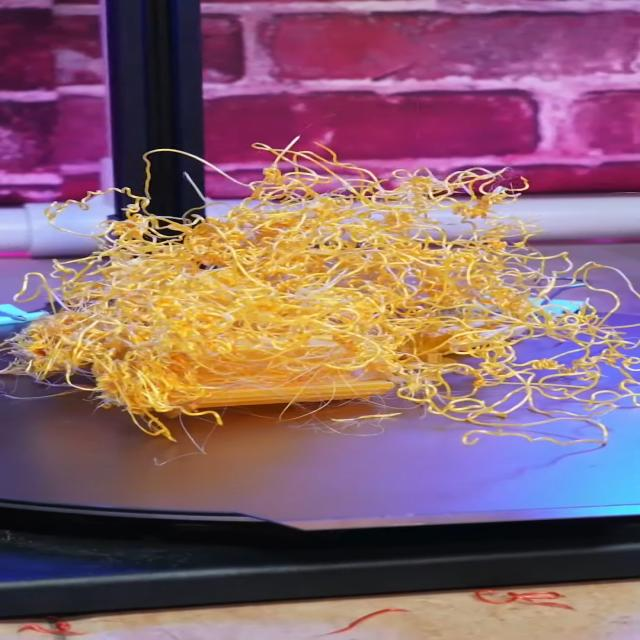spaghetti: (0, 145, 640, 450)
